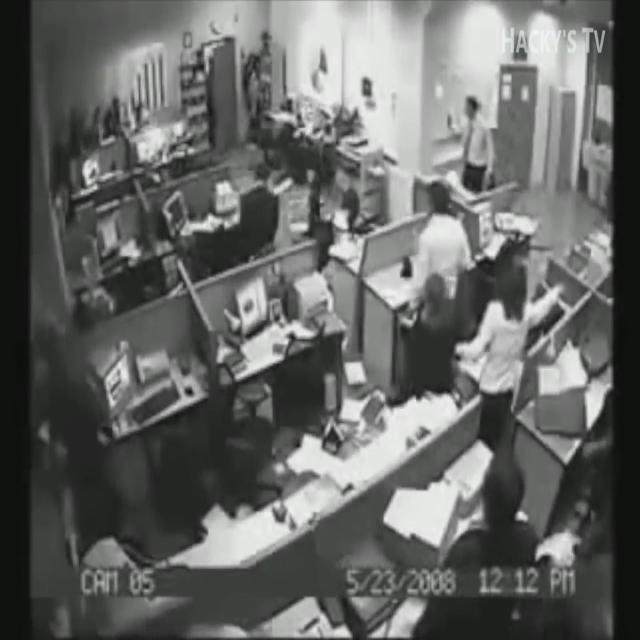fight: (297, 147, 384, 273)
